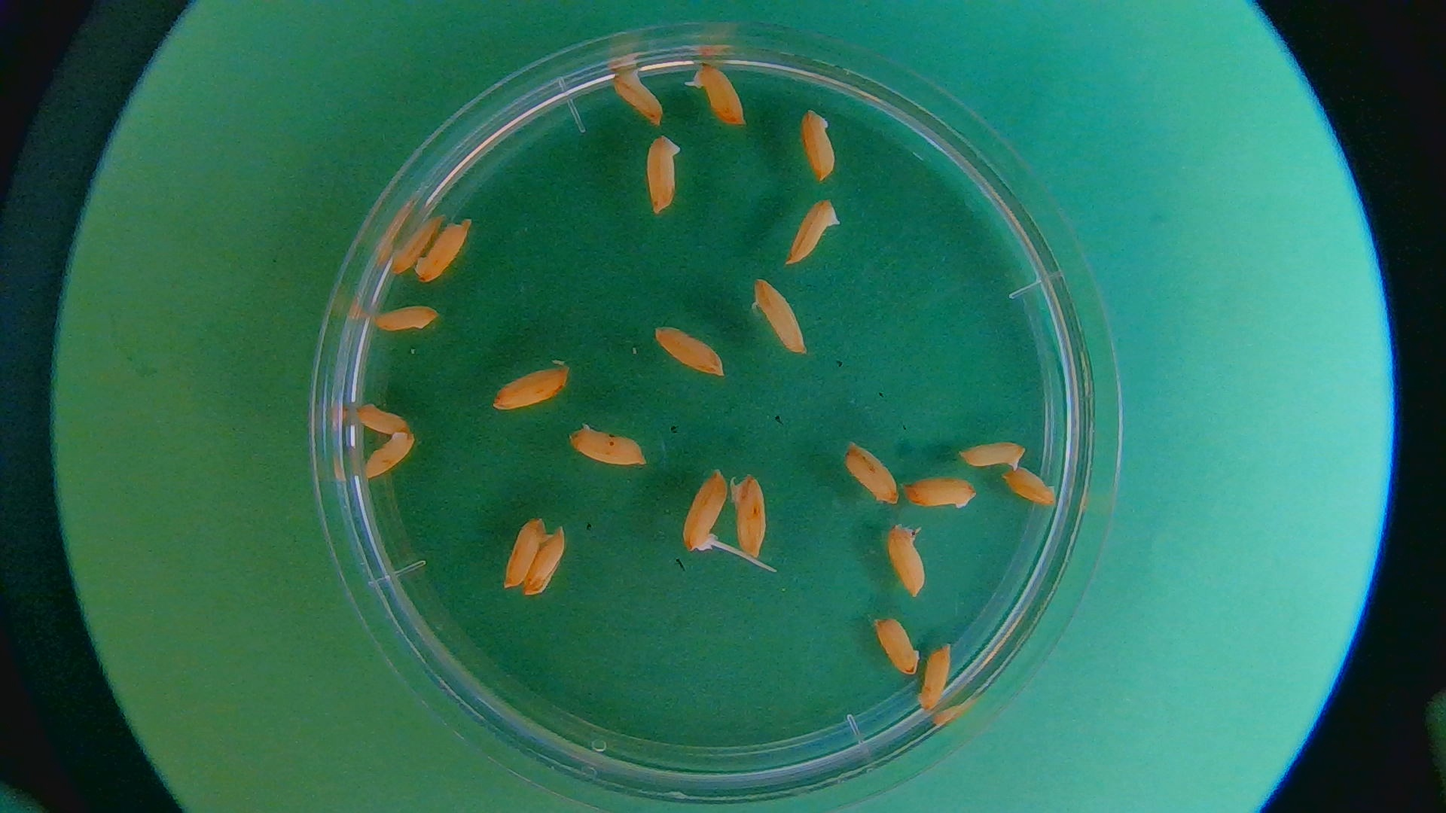no: (490, 355, 578, 413), (749, 273, 808, 355), (414, 221, 477, 285), (786, 199, 844, 263), (654, 326, 725, 376), (842, 442, 900, 502), (567, 422, 649, 464), (729, 476, 770, 559), (506, 514, 551, 589), (886, 521, 929, 598), (522, 525, 568, 596), (869, 617, 923, 677), (613, 69, 666, 129), (644, 135, 684, 212), (905, 476, 983, 513), (362, 427, 419, 477), (800, 108, 838, 181), (920, 642, 953, 711), (1002, 470, 1060, 508), (371, 305, 439, 330), (358, 402, 417, 430), (961, 442, 1027, 467)
yes: (679, 465, 729, 555), (694, 60, 746, 129)
